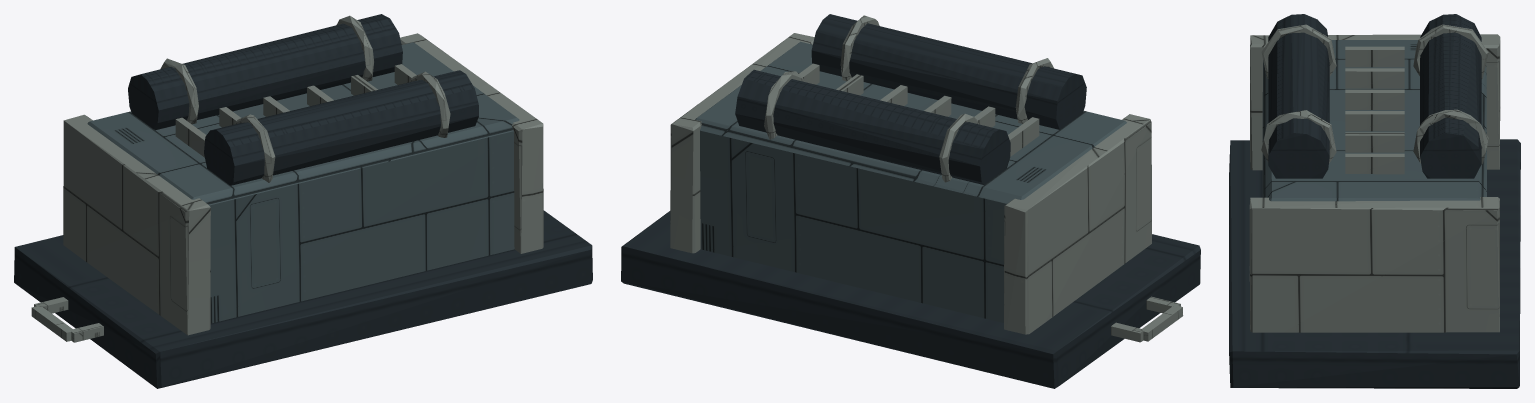
Rendered from hundred_hand_power_lod2.glb.
3 renders of one model, left to right at view 1: azimuth 30°, elevation 25°; view 2: azimuth 150°, elevation 25°; view 3: azimuth 270°, elevation 25°, orthographic.
Parts seen in each view (by area): view 1: LOD2_Mechanical, LOD2_Hull, LOD2_BrushedMetal; view 2: LOD2_Mechanical, LOD2_Hull, LOD2_BrushedMetal; view 3: LOD2_BrushedMetal, LOD2_Mechanical, LOD2_Hull.
Boxes of the visible parts, x1,y1,x2,y2 form: LOD2_Mechanical: [14, 14, 592, 388]; LOD2_Hull: [87, 42, 519, 323]; LOD2_BrushedMetal: [31, 15, 543, 342]; LOD2_Mechanical: [621, 14, 1200, 388]; LOD2_Hull: [695, 41, 1126, 322]; LOD2_BrushedMetal: [670, 15, 1183, 342]; LOD2_BrushedMetal: [1249, 24, 1500, 332]; LOD2_Mechanical: [1229, 14, 1520, 388]; LOD2_Hull: [1262, 40, 1486, 201].
Size of what is drawn, in the model's own units: 10.78 by 4.73 by 5.77.
Materials: 3 (3 with a texture image).
